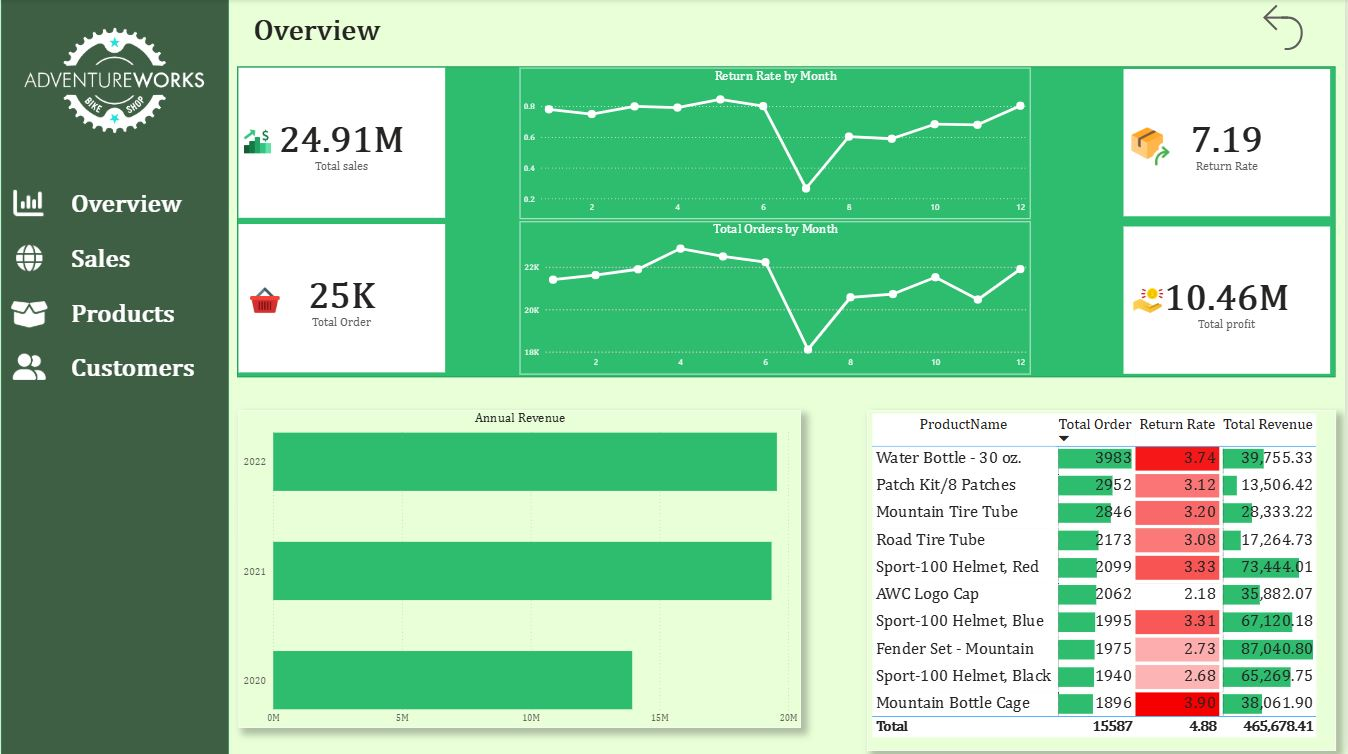

What the dashboard file says about the page in this screenshot:
{"tool":"powerbi","page":{"name":"Overview","canvas":[1920,1080],"ordinal":0},"visuals":[{"type":"shape","box":[0,0,325.2,1081],"z":0,"group":"g1"},{"type":"shape","box":[337.8,96.5,1569.1,443.9],"z":0},{"type":"image","box":[0,0,325.2,233.1],"z":1000,"group":"g1"},{"type":"textbox","box":[354.7,18.1,351.1,77.8],"z":1000},{"type":"group","id":"g1","title":"nvaigate","box":[0,0,325.2,1081],"z":2000},{"type":"textbox","box":[95.4,267.8,214.6,53.2],"z":2000,"group":"g1"},{"type":"card","fields":{"Values":["Table Measures.Total sales"]},"box":[339.7,98.4,295.3,214.2],"z":3000},{"type":"textbox","box":[95.4,346.1,214.6,53.2],"z":3000,"group":"g1"},{"type":"card","fields":{"Values":["Table Measures.Total profit"]},"box":[1603.9,324.2,295.3,210.4],"z":4000},{"type":"textbox","box":[95.4,424.3,214.6,53.2],"z":4000,"group":"g1"},{"type":"card","fields":{"Values":["Table Measures.Return Rate"]},"box":[1603.9,100.4,295.3,210.4],"z":5000},{"type":"textbox","box":[95.4,502.6,214.6,53.2],"z":5000,"group":"g1"},{"type":"card","fields":{"Values":["Table Measures.Total Order"]},"box":[339.7,322.3,295.3,212.3],"z":6000},{"type":"image","box":[0,502.6,80.7,47.7],"z":6000,"group":"g1"},{"type":"lineChart","title":"Return Rate by Month","fields":{"Y":["Table Measures.Return Rate"],"Category":["Date Lookup.EnglishYear","Date Lookup.EnglishMonthNumber","Date Lookup.EnglishDayNumberOfMonth"]},"box":[741.1,98.4,729.6,216.2],"z":7000},{"type":"image","box":[0,427.4,80.7,47.7],"z":7000,"group":"g1"},{"type":"lineChart","title":"Total Orders by Month","fields":{"Category":["Date Lookup.EnglishYear","Date Lookup.EnglishMonthNumber","Date Lookup.EnglishDayNumberOfMonth"],"Y":["Table Measures.All orders"]},"box":[741.1,318.5,729.6,218.1],"z":8000},{"type":"image","box":[0,346.7,80.7,47.7],"z":8000,"group":"g1"},{"type":"image","box":[337.8,175.6,57.9,56],"z":9000},{"type":"image","box":[0,267.8,78.9,47.7],"z":9000,"group":"g1"},{"type":"image","box":[347.4,399.5,57.9,61.8],"z":10000},{"type":"image","box":[1603.9,401.4,69.5,56],"z":11000},{"type":"image","box":[1604,178,76,64],"z":12000},{"type":"barChart","title":"Annual Revenue","fields":{"Category":["Date Lookup.EnglishYear"],"Y":["Table Measures.Total Revenue"]},"box":[339.7,586.7,802.9,453.6],"z":13000},{"type":"tableEx","fields":{"Values":["Product Lookup.ProductName","Table Measures.Total Order","Table Measures.Return Rate","Table Measures.Total Revenue"]},"box":[1237.2,586.7,669.7,486.4],"z":14000},{"type":"actionButton","box":[1791.1,0,129.3,81.1],"z":15000}]}

Visuals, with their boxes in screenshot pixels (x1, y1, x2, y2), scaled from the page's 1920x1080 canvas onto the 1348x754 screenshot:
shape: box=[0, 0, 228, 753]
shape: box=[237, 67, 1339, 377]
image: box=[0, 0, 228, 163]
textbox: box=[249, 13, 496, 67]
"nvaigate" group: box=[0, 0, 228, 753]
textbox: box=[67, 187, 218, 224]
card - Table Measures.Total sales: box=[238, 69, 446, 218]
textbox: box=[67, 242, 218, 279]
card - Table Measures.Total profit: box=[1126, 226, 1333, 373]
textbox: box=[67, 296, 218, 333]
card - Table Measures.Return Rate: box=[1126, 70, 1333, 217]
textbox: box=[67, 351, 218, 388]
card - Table Measures.Total Order: box=[238, 225, 446, 373]
image: box=[0, 351, 57, 384]
"Return Rate by Month" lineChart: box=[520, 69, 1033, 220]
image: box=[0, 298, 57, 332]
"Total Orders by Month" lineChart: box=[520, 222, 1033, 375]
image: box=[0, 242, 57, 275]
image: box=[237, 123, 278, 162]
image: box=[0, 187, 55, 220]
image: box=[244, 279, 285, 322]
image: box=[1126, 280, 1175, 319]
image: box=[1126, 124, 1180, 169]
"Annual Revenue" barChart: box=[238, 410, 802, 726]
tableEx - Product Lookup.ProductName x Table Measures.Total Order: box=[869, 410, 1339, 749]
actionButton: box=[1258, 0, 1347, 57]
